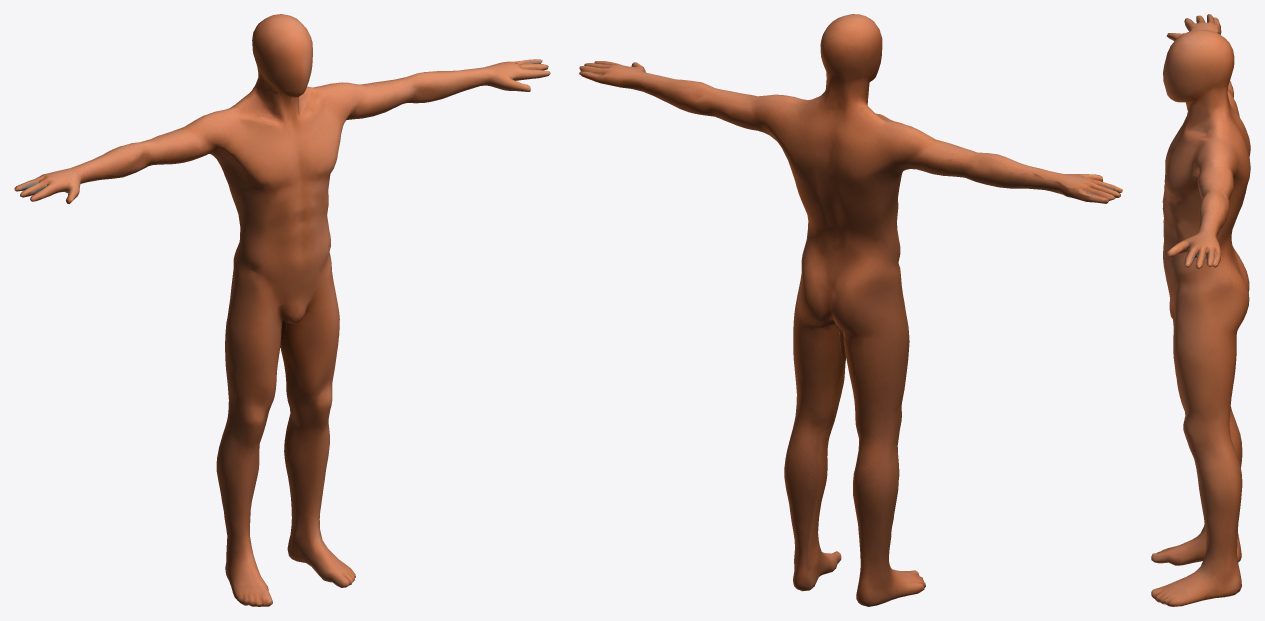
Rendered from AS06_GuardDummy.fbx.
3 views of the same model, side by side, from view 1: azimuth 30°, elevation 25°; view 2: azimuth 150°, elevation 25°; view 3: azimuth 270°, elevation 25° (orthographic). The views are drawn at different scales.
Visible parts, largest first — view 1: texture_mapping; view 2: texture_mapping; view 3: texture_mapping.
Boxes of the visible parts, left/top/right/bottom form: texture_mapping: left=14, top=14, right=550, bottom=606; texture_mapping: left=579, top=14, right=1122, bottom=606; texture_mapping: left=1151, top=14, right=1250, bottom=606.
Size of the model in its own units: 0.9824 by 0.1644 by 1.
Materials: 1 (1 with a texture image).
